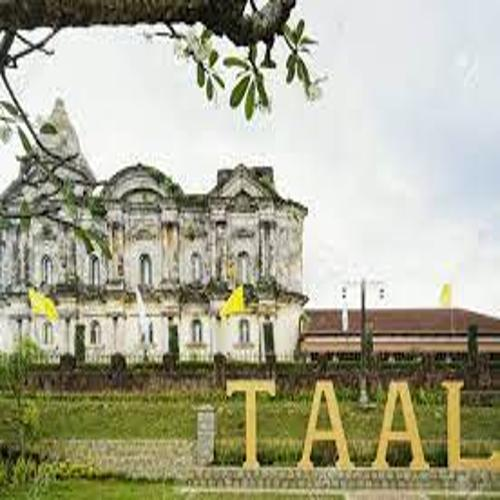Taal Basilica Church: (1, 95, 316, 379)
